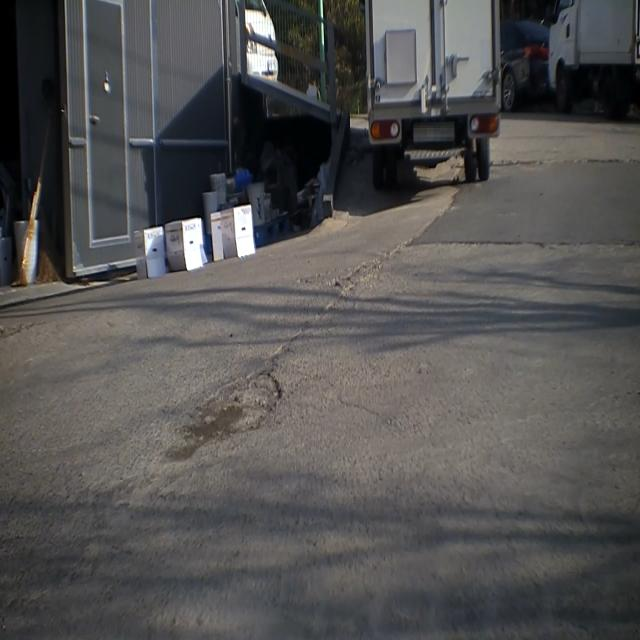Pothole: (156, 363, 288, 464), (330, 259, 383, 295)
